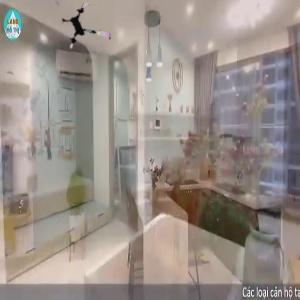drone: (58, 1, 114, 57)
